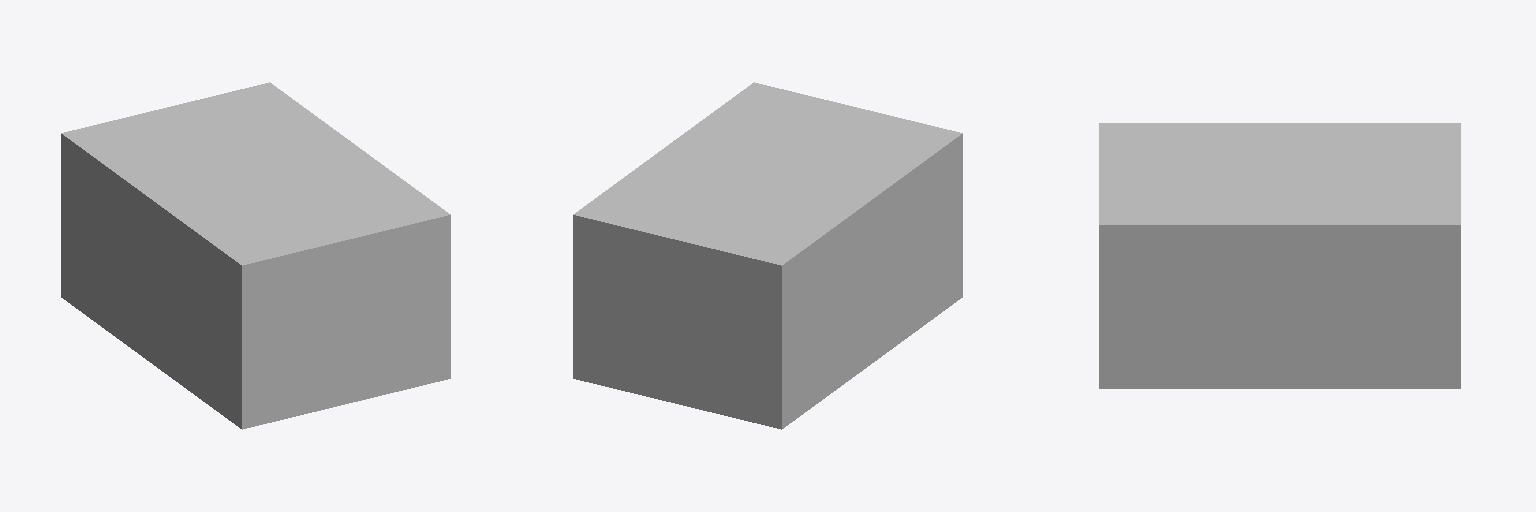
The model's file is iron.obj.
3 views of the same model, side by side, from view 1: azimuth 30°, elevation 25°; view 2: azimuth 150°, elevation 25°; view 3: azimuth 270°, elevation 25° (orthographic).
Parts seen in each view (by area): view 1: object 1; view 2: object 1; view 3: object 1.
Part boxes in pixels (x1,y1,x2,y2): object 1: (61, 82, 450, 429); object 1: (573, 82, 962, 429); object 1: (1099, 123, 1460, 388).
Size of the model in its own units: 0.4 by 0.3 by 0.6.